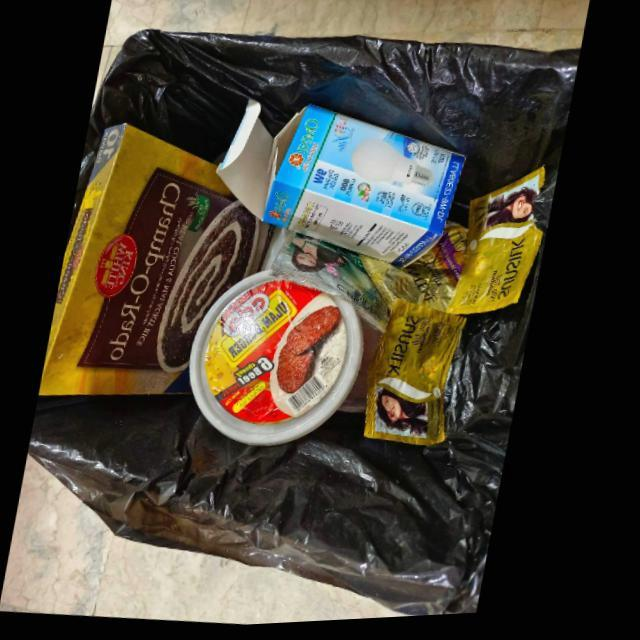cardboard: (44, 125, 275, 398), (217, 102, 469, 272)
plastic_container: (195, 276, 371, 451)
plastic_sachet: (370, 303, 472, 451), (451, 172, 548, 321), (273, 235, 395, 337), (363, 226, 472, 316)
